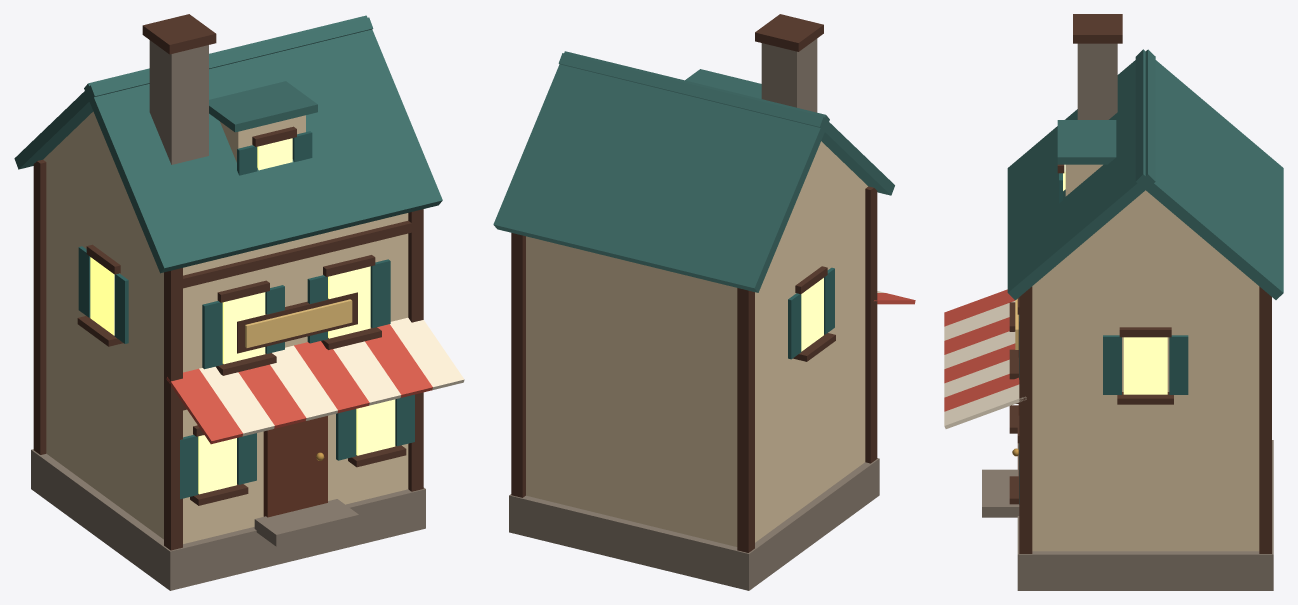
The model's file is townhouse-1.glb.
The picture shows the model from 3 angles, left to right: view 1: azimuth 30°, elevation 25°; view 2: azimuth 150°, elevation 25°; view 3: azimuth 270°, elevation 25°; orthographic projection. The views are drawn at different scales.
Parts seen in each view (by area): view 1: townhouse-1; view 2: townhouse-1; view 3: townhouse-1.
Part boxes in pixels (bbox=[...]): townhouse-1: bbox=[14, 14, 464, 590]; townhouse-1: bbox=[493, 14, 915, 590]; townhouse-1: bbox=[944, 14, 1283, 590].
Bounding box in the file's own units: 3.7 × 6.56 × 4.25.
